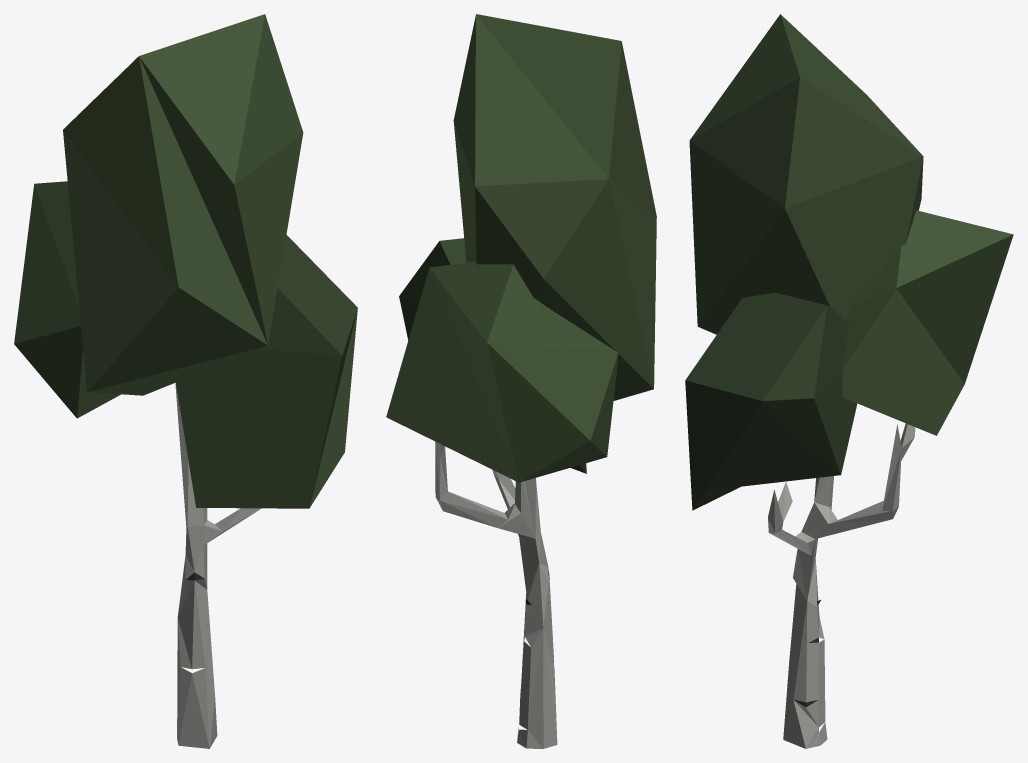
Rendered from BirchTree_3_lod.glb.
3 renders of one model, left to right at view 1: azimuth 30°, elevation 25°; view 2: azimuth 150°, elevation 25°; view 3: azimuth 270°, elevation 25°, orthographic. The views are drawn at different scales.
Parts seen in each view (by area): view 1: BirchTree_3; view 2: BirchTree_3; view 3: BirchTree_3.
Boxes of the visible parts, box(x1,y1,x2,y2) form: BirchTree_3: box(14, 14, 357, 748); BirchTree_3: box(386, 14, 656, 748); BirchTree_3: box(685, 14, 1013, 748).
Bounding box in the file's own units: 1.51 × 4.02 × 1.73.
